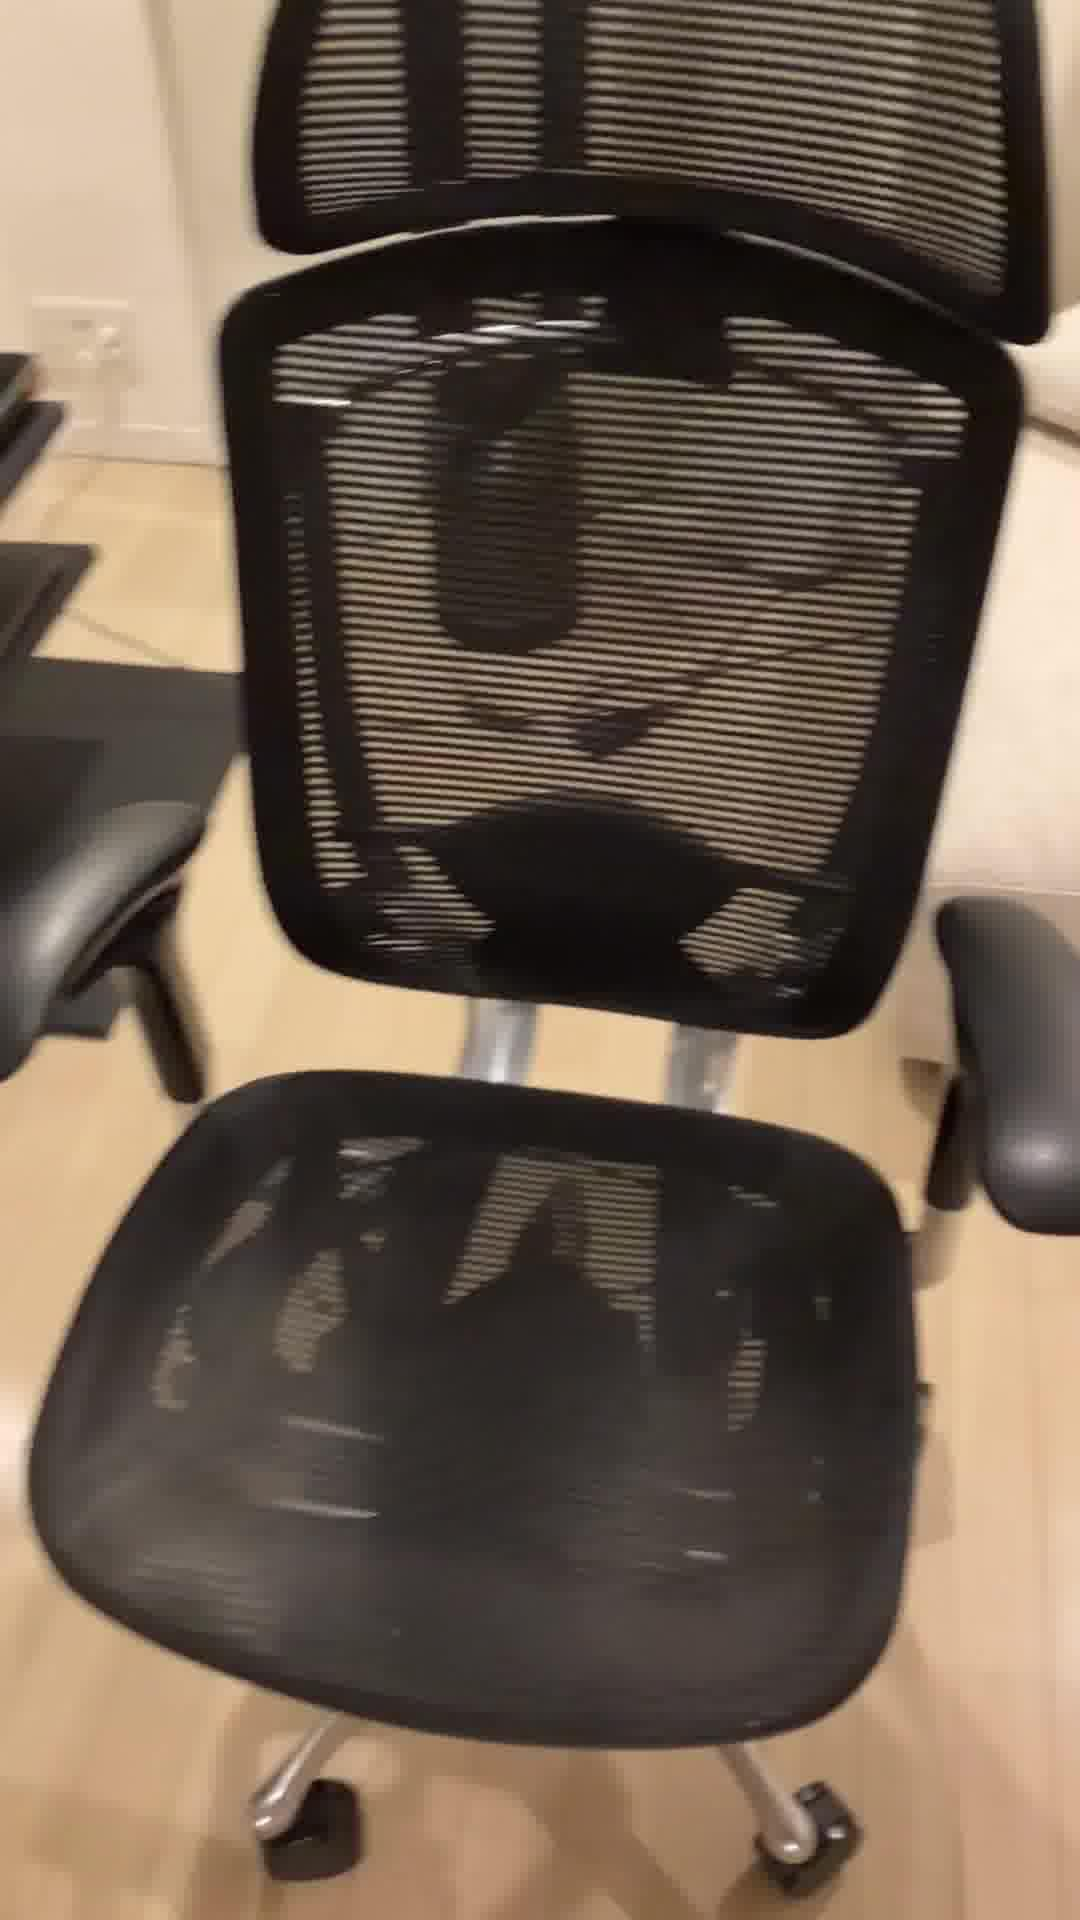okamura-contessa: (0, 0, 1080, 1896)
